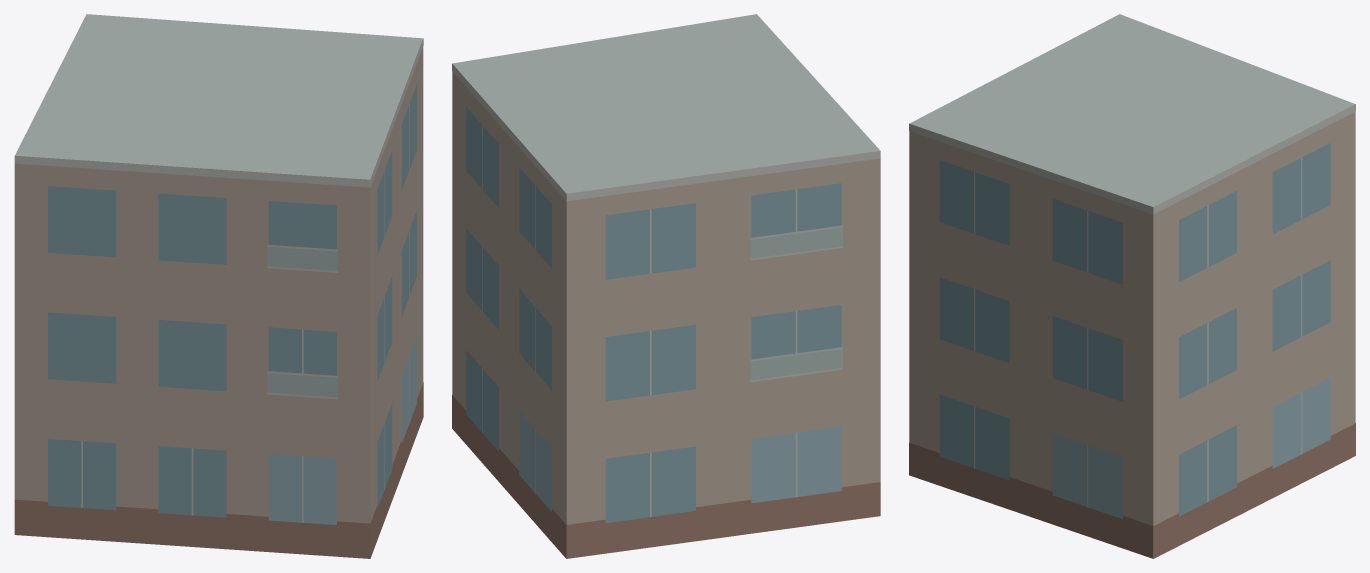
Rendered from survey-upis-32684098.glb.
The picture shows the model from 3 angles, left to right: view 1: azimuth 30°, elevation 25°; view 2: azimuth 150°, elevation 25°; view 3: azimuth 270°, elevation 25°; orthographic projection. The views are drawn at different scales.
Parts seen in each view (by area): view 1: survey-upis-32684098.tmp; view 2: survey-upis-32684098.tmp; view 3: survey-upis-32684098.tmp.
Boxes of the visible parts, x1,y1,x2,y2 form: survey-upis-32684098.tmp: [14, 14, 423, 558]; survey-upis-32684098.tmp: [452, 14, 880, 558]; survey-upis-32684098.tmp: [909, 14, 1355, 558].
Size of the model in its own units: 13.91 by 11.8 by 13.59.
